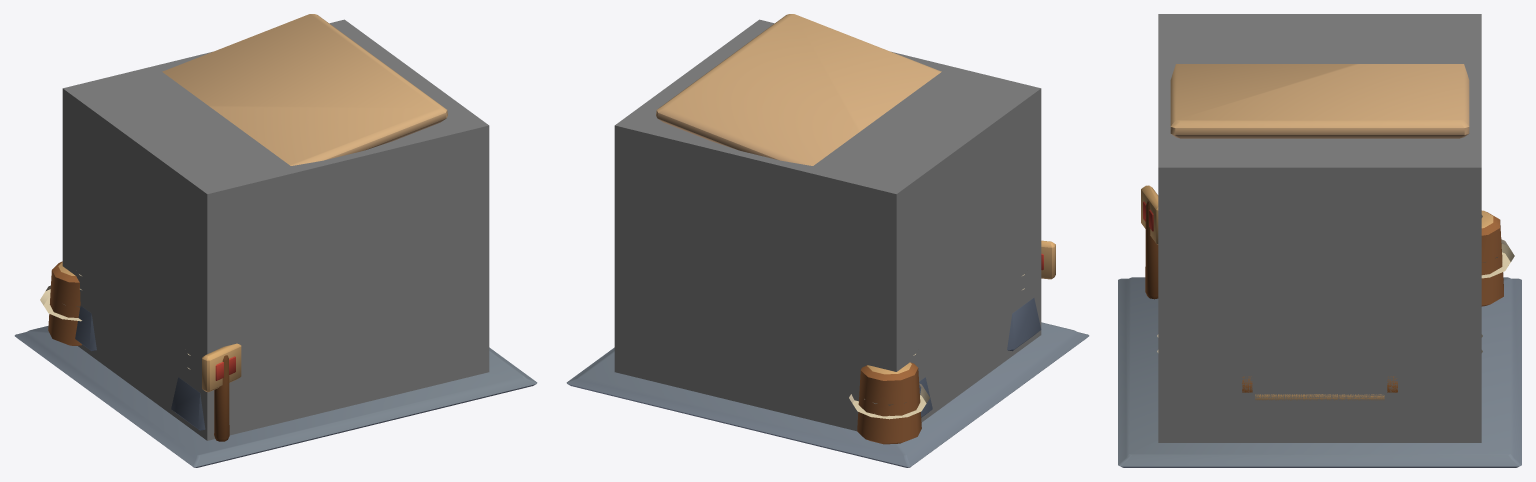
File: wood_feeder.glb
The picture shows the model from 3 angles, left to right: view 1: azimuth 30°, elevation 25°; view 2: azimuth 150°, elevation 25°; view 3: azimuth 270°, elevation 25°; orthographic projection. The views are drawn at different scales.
Visible parts, largest first — view 1: COL_Body, WoodFeeder_Static; view 2: COL_Body, WoodFeeder_Static; view 3: COL_Body, WoodFeeder_Static.
Part boxes in pixels (<box>): COL_Body: <box>62,19,489,440</box>; WoodFeeder_Static: <box>14,14,537,467</box>; COL_Body: <box>614,19,1041,431</box>; WoodFeeder_Static: <box>566,14,1089,467</box>; COL_Body: <box>1158,14,1481,442</box>; WoodFeeder_Static: <box>1118,64,1521,467</box>.
Size of the model in its own units: 2.2 by 1.69 by 2.
